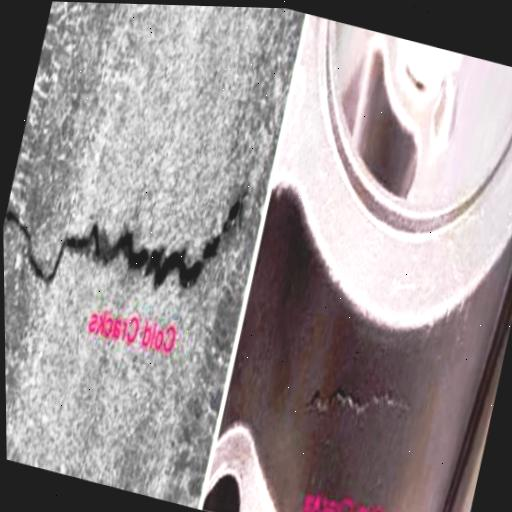crack: (2, 131, 251, 326), (283, 354, 426, 448)
